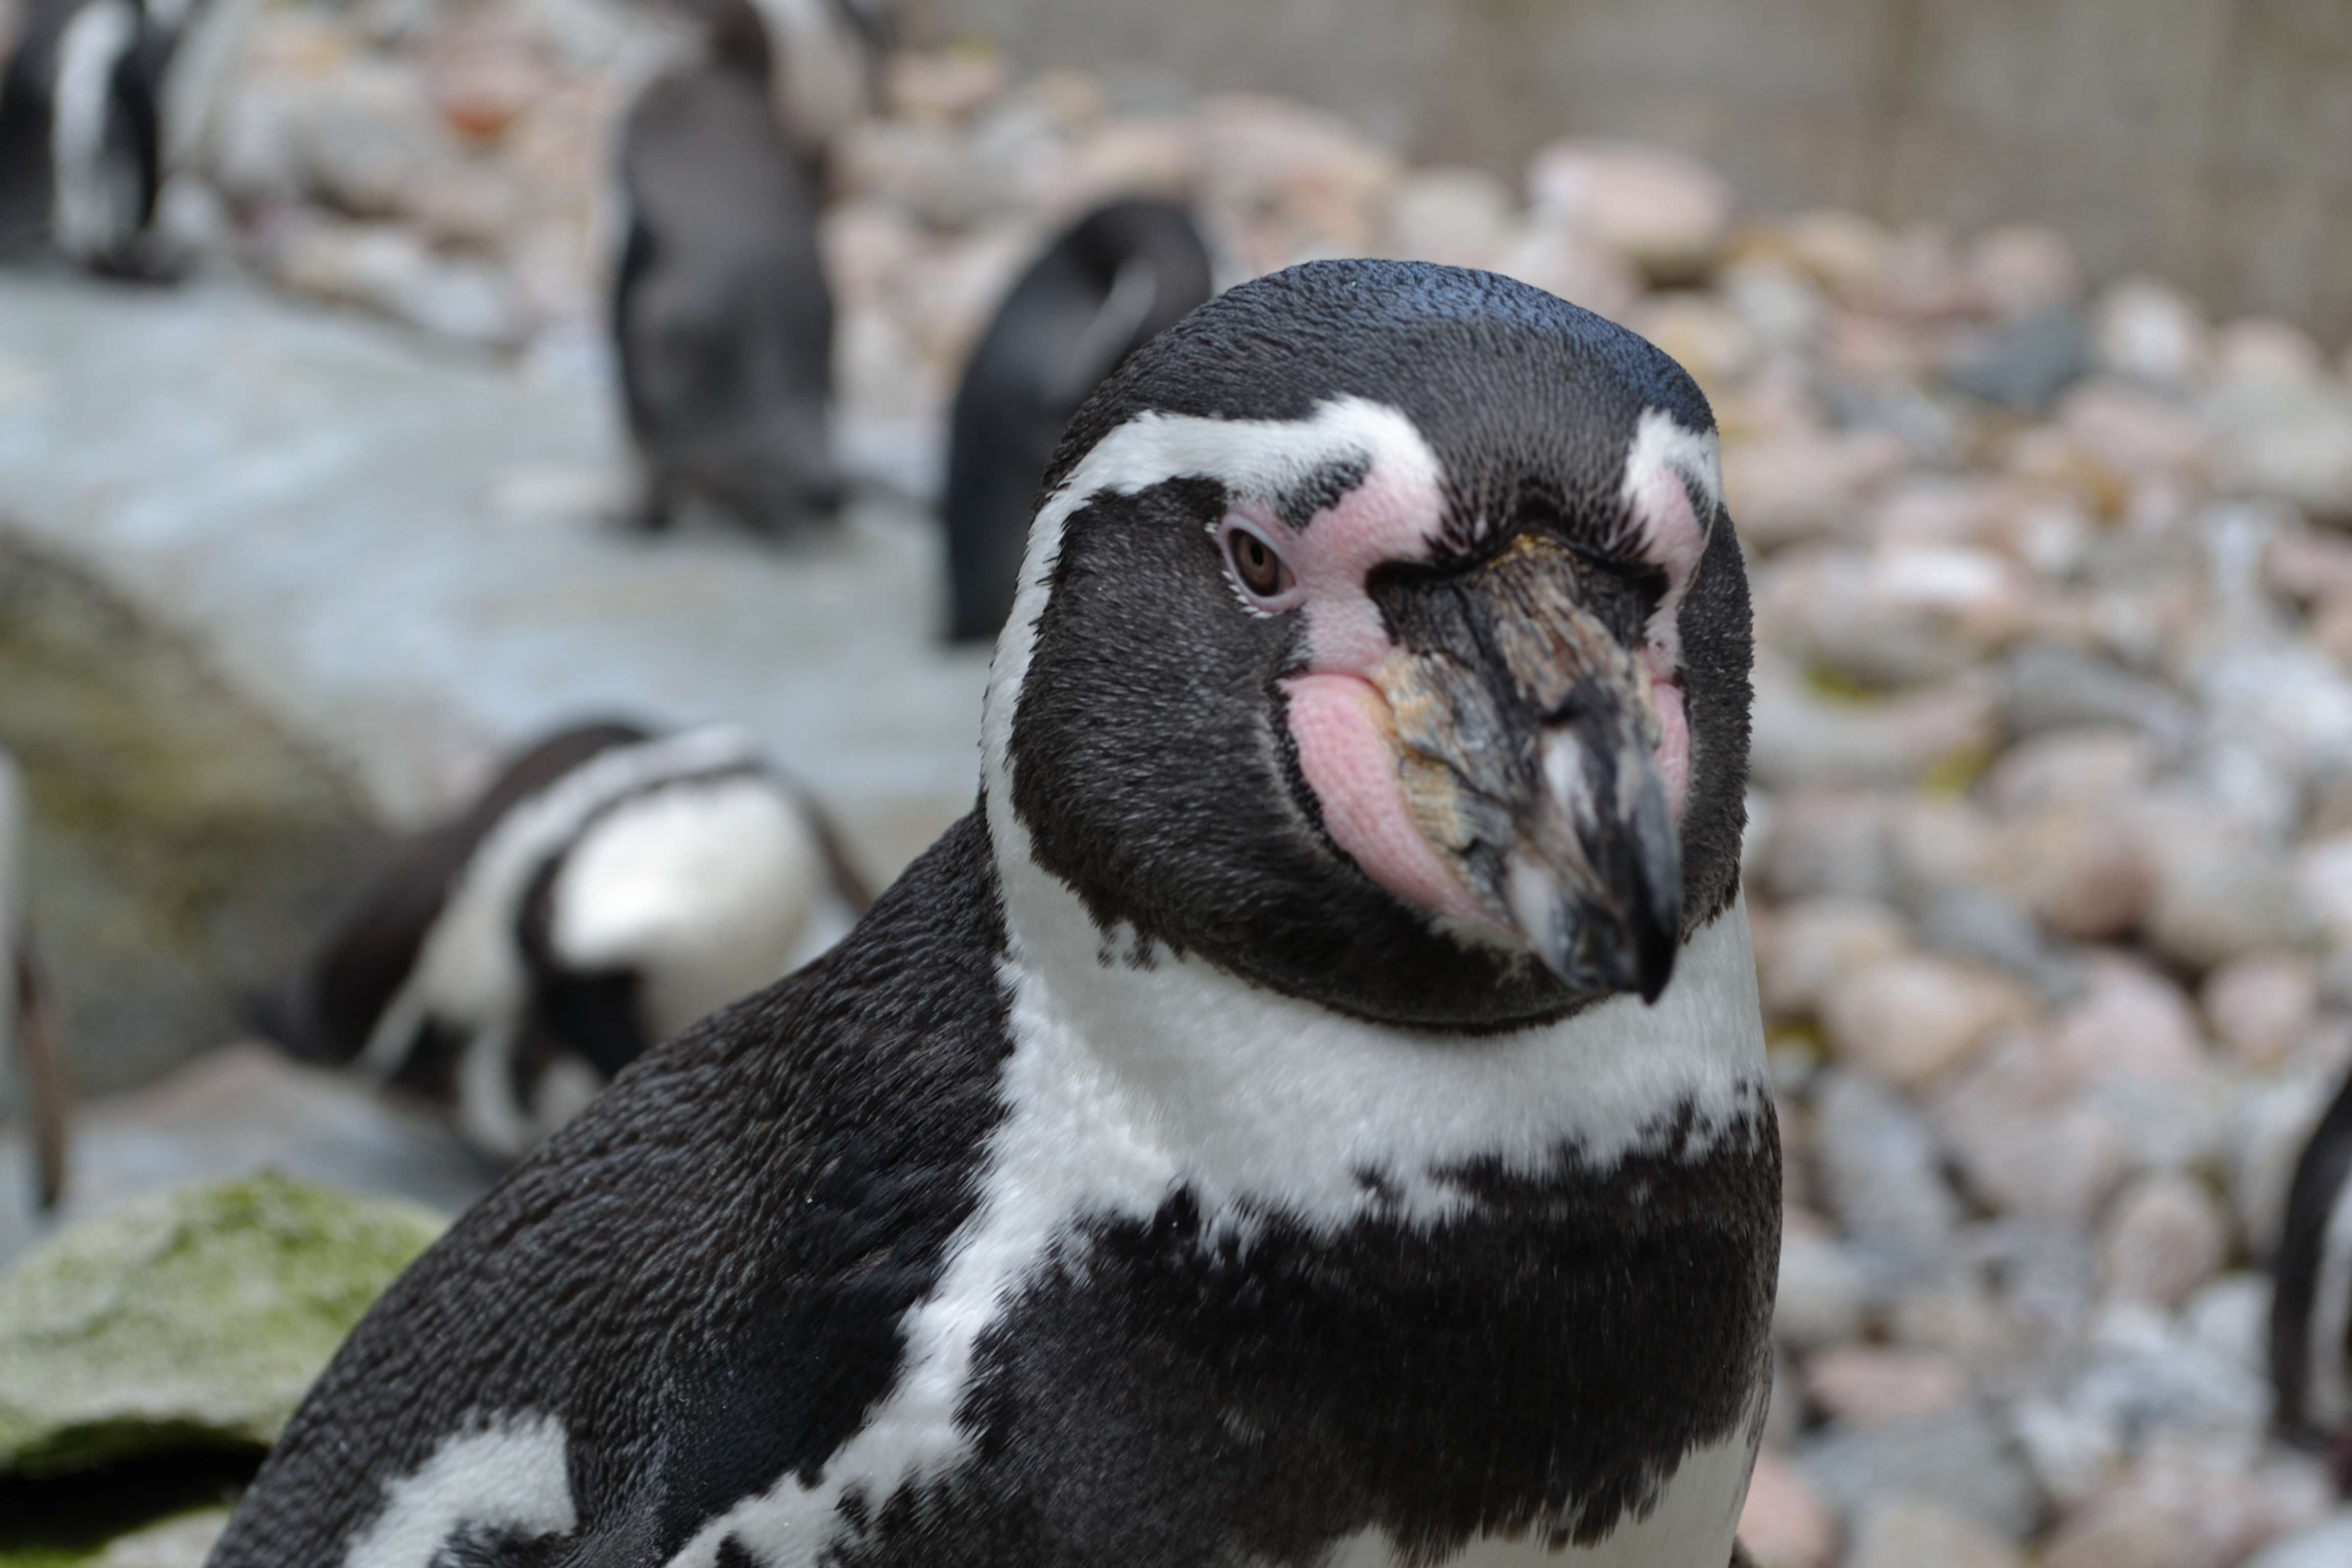penguin: (280, 222, 1781, 1568)
